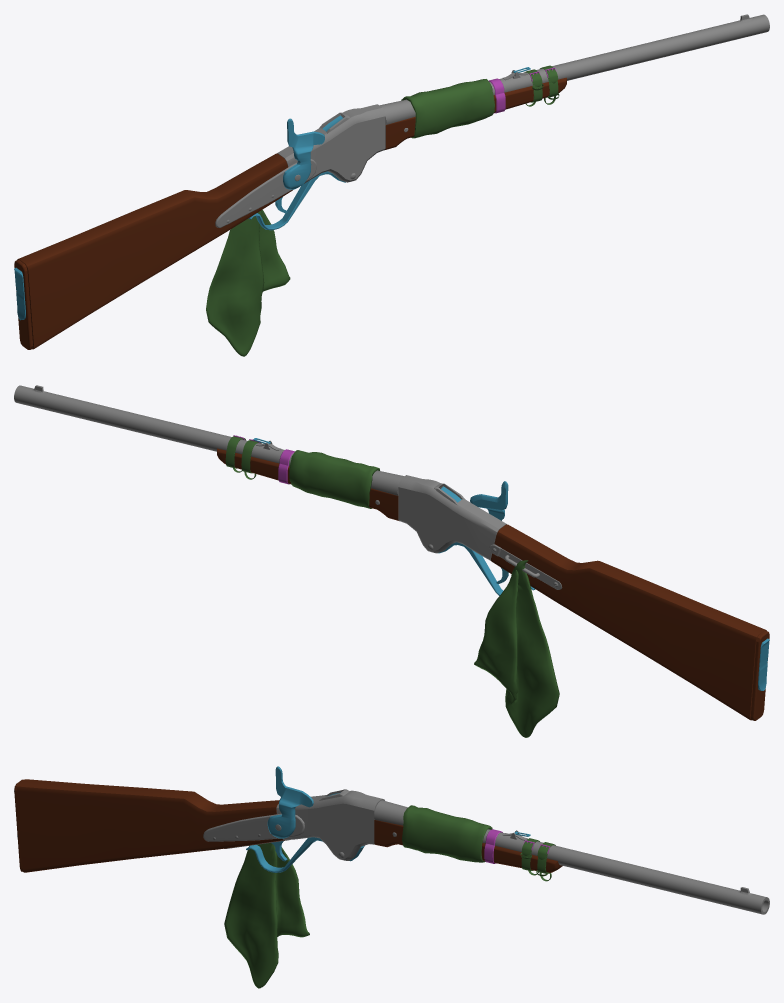
The model's file is Spencer_low_def_new uv.fbx.
3 views of the same model, one above another, from view 1: azimuth 30°, elevation 25°; view 2: azimuth 150°, elevation 25°; view 3: azimuth 330°, elevation 25° (orthographic).
Parts seen in each view (by area): view 1: Stock1, Handkerchief3, pCylinder79, Receiver1, polySurface12, Hammer_Brace, Handguard1, Hammer, Lever1; view 2: Stock1, Handkerchief3, pCylinder79, Receiver1, polySurface12, Handguard1, Hammer, Lever1; view 3: Stock1, Handkerchief3, pCylinder79, Receiver1, polySurface12, Hammer_Brace, Handguard1, Hammer, Lever1.
Boxes of the visible parts, box(x1,y1,x2,y2) form: Stock1: box(14, 153, 292, 349); Handkerchief3: box(206, 209, 290, 356); pCylinder79: box(379, 14, 769, 124); Receiver1: box(277, 104, 385, 189); polySurface12: box(401, 79, 494, 138); Hammer_Brace: box(215, 159, 316, 227); Handguard1: box(385, 77, 566, 149); Hammer: box(283, 118, 324, 189); Lever1: box(248, 115, 345, 230); Stock1: box(491, 524, 769, 720); Handkerchief3: box(474, 560, 559, 737); pCylinder79: box(14, 385, 404, 495); Receiver1: box(398, 475, 506, 560); polySurface12: box(289, 450, 379, 508); Handguard1: box(217, 448, 399, 521); Hammer: box(470, 481, 508, 520); Lever1: box(438, 486, 535, 595); Stock1: box(14, 779, 284, 872); Handkerchief3: box(224, 843, 309, 988); pCylinder79: box(374, 800, 769, 914); Receiver1: box(276, 790, 384, 860); polySurface12: box(402, 805, 492, 862); Hammer_Brace: box(203, 813, 304, 841); Handguard1: box(374, 820, 562, 872); Hammer: box(267, 766, 313, 838); Lever1: box(246, 792, 364, 872).
Bounding box in the file's own units: 992 × 303 × 55.12.
